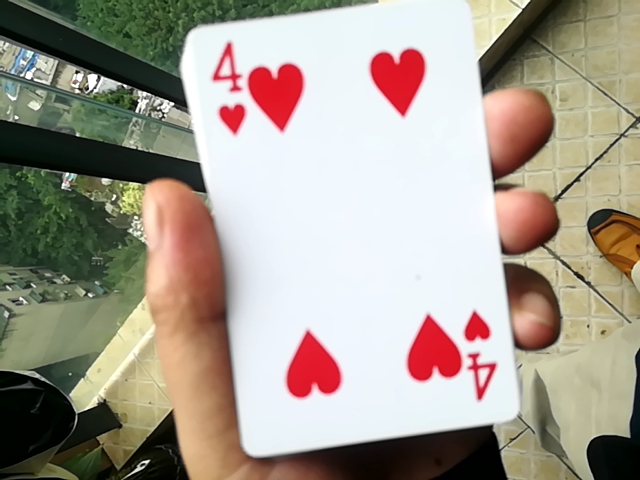hx 4: (173, 6, 517, 467)
